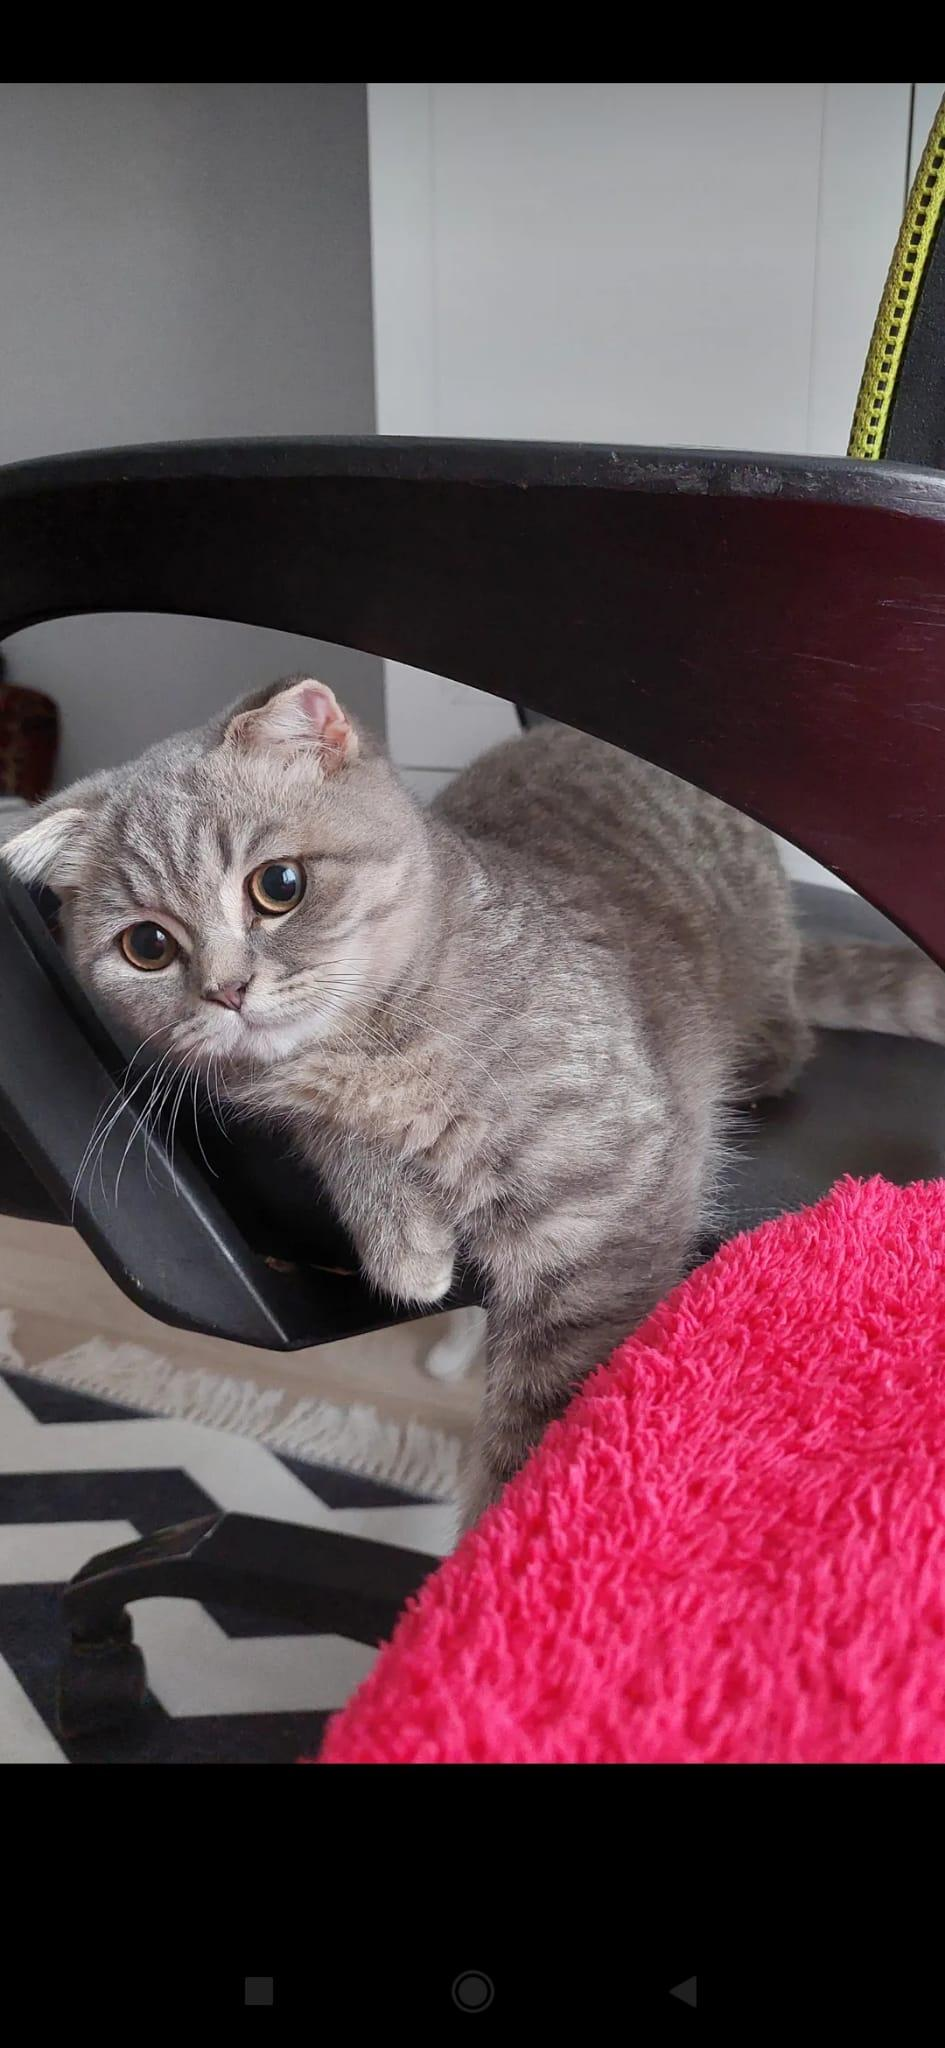kedo: (7, 684, 796, 1285)
